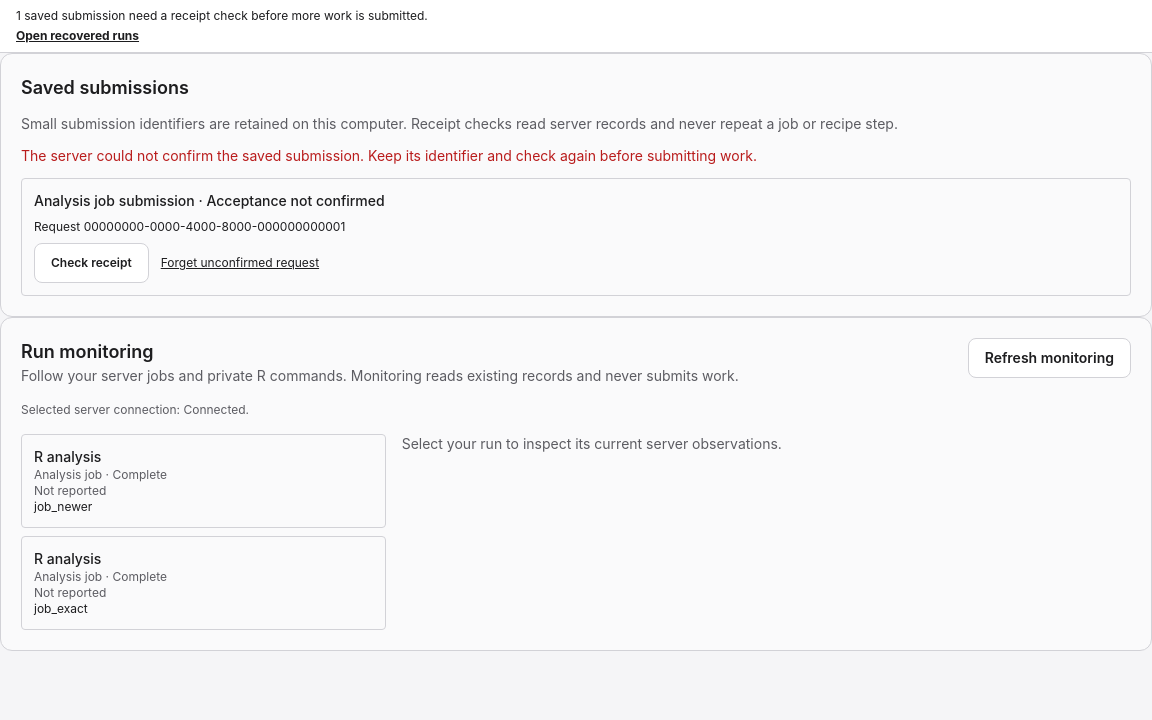
Test: retains a pending UUID when an unrelated selected monitoring record is missing
Click the button "R analysis Analysis job · Complete Not reported job_newer": (68, 456) x1=21 y1=434 x2=386 y2=528
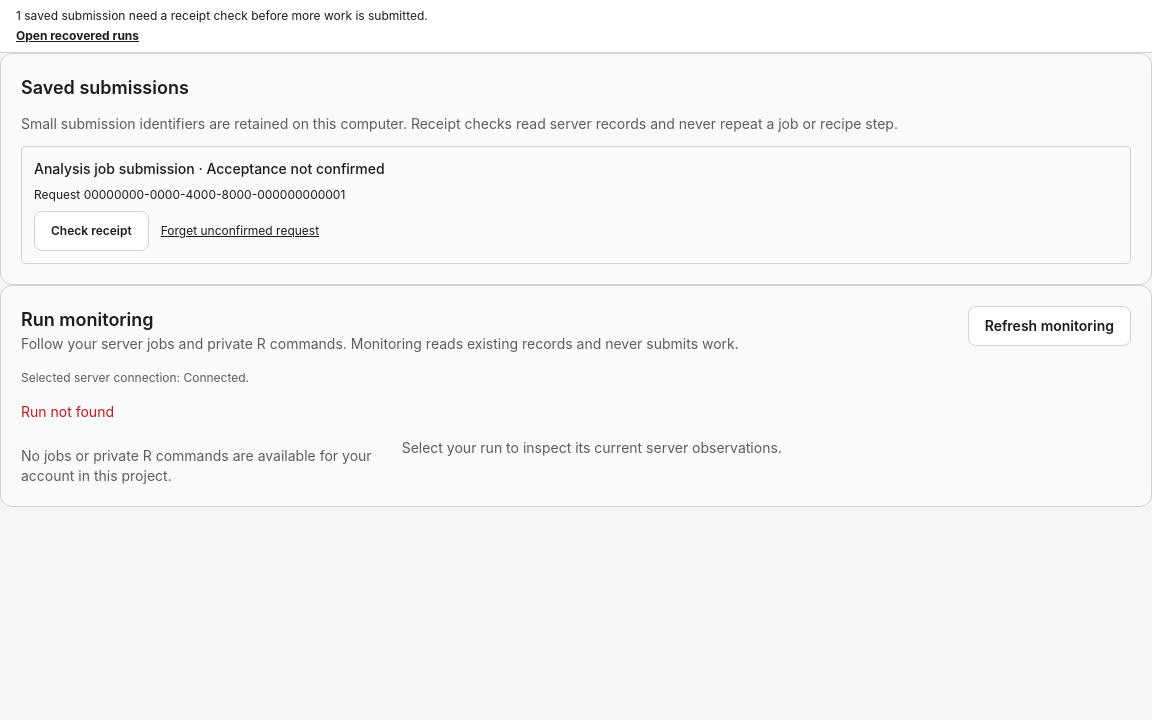
Check: the text "Run not found" is shown, box x1=21 y1=403 x2=114 y2=420
